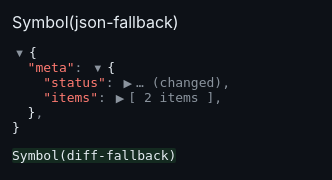
Test: Response collapse defaults › handles non-json fallback values and collapsed nested diffs
Check: the text "Symbol(json-fallback)" is shown, box [12, 12, 179, 32]
Check: the text "Symbol(diff-fallback)" is shown, box [12, 148, 176, 163]
Click the button titled "expand" next to "… (changed)".
click(128, 84)  # box [122, 77, 134, 90]
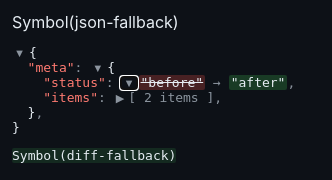
Check: the text "\"before\"" is shown, box [138, 75, 205, 90]
Check: the text "\"after\"" is shown, box [229, 75, 288, 90]
Check: the text "→" is shown, box [205, 75, 229, 90]
